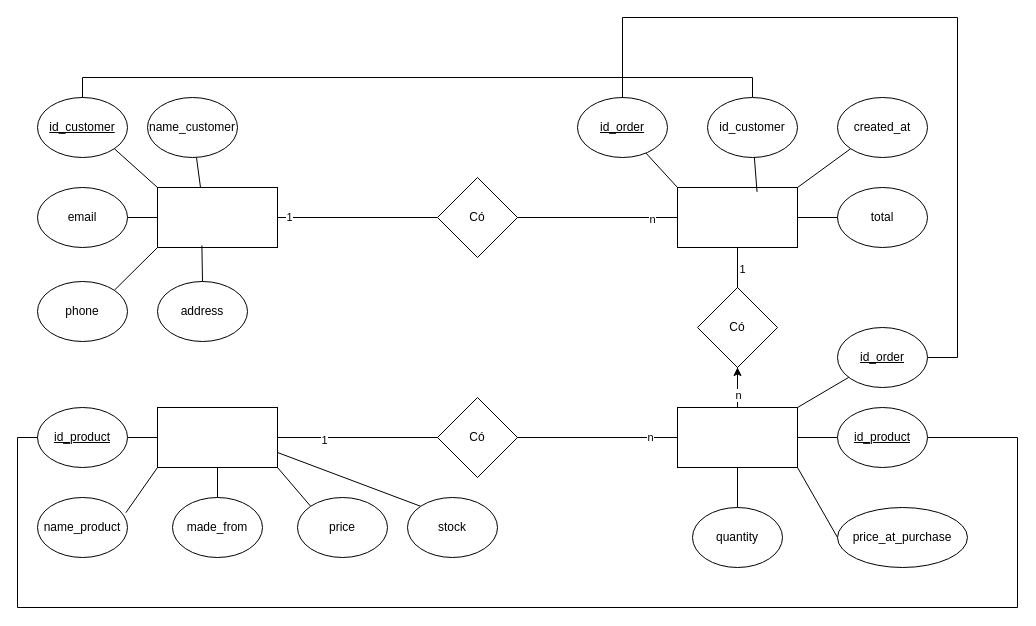
This 1036x626 diagram has some shape labels left out. Each missing label, with the box of its shape:
Customers: (156, 186, 278, 248)
Orders: (676, 186, 798, 248)
Orders_detail: (676, 406, 798, 468)
Products: (156, 406, 278, 468)
